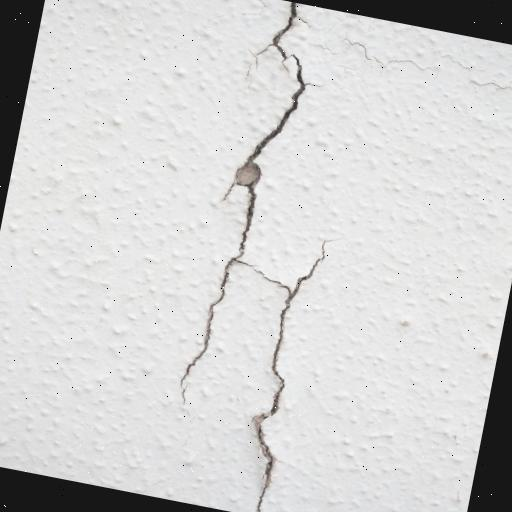spalling: (172, 7, 324, 404), (245, 228, 337, 512)
